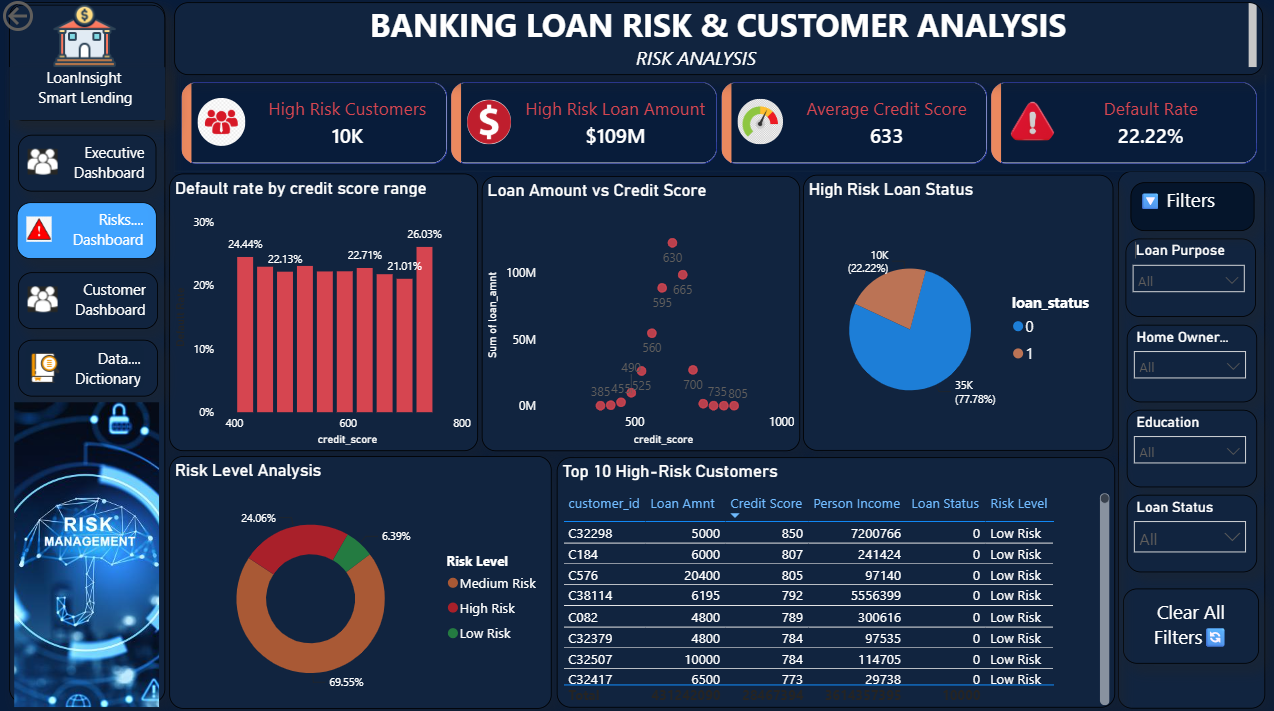

Layout of this report page (visuals, bound fields, positions):
{"tool":"powerbi","page":{"name":"Risk dashboard","canvas":[1280,720],"ordinal":1},"visuals":[{"type":"shape","box":[1120,175,147.5,537.5],"z":0},{"type":"slicer","fields":{"Values":["final_loan_analysis.loan_intent"]},"box":[1127.5,242.5,130,78.8],"z":1000},{"type":"cardVisual","fields":{"Data":["final_loan_analysis.High Risk Customers","final_loan_analysis.High Risk Loan Amount","final_loan_analysis.Average Credit Score","final_loan_analysis.Default Rate"]},"box":[176.1,78.4,1091.8,96.5],"z":2000},{"type":"shape","box":[10.9,6,155.6,700.9],"z":3000},{"type":"columnChart","title":"Default rate by credit score range","fields":{"Y":["final_loan_analysis.Default Rate"],"Category":["final_loan_analysis.credit_score (bins)"]},"box":[171.2,177.5,308.8,277.5],"z":4000},{"type":"scatterChart","title":"Loan Amount vs Credit Score","fields":{"Y":["Sum(final_loan_analysis.loan_amnt)"],"X":["final_loan_analysis.credit_score (bins)"]},"box":[483.8,180,318.8,275],"z":5000},{"type":"donutChart","title":"Risk Level Analysis","fields":{"Y":["CountNonNull(final_loan_analysis.customer_id)"],"Category":["final_loan_analysis.Risk Level"]},"box":[171.2,460,382.5,252.5],"z":6000},{"type":"slicer","fields":{"Values":["final_loan_analysis.person_home_ownership"]},"box":[1128.8,328.8,130,77.5],"z":7000},{"type":"slicer","fields":{"Values":["final_loan_analysis.person_education"]},"box":[1128.8,413.8,130,77.5],"z":8000},{"type":"slicer","fields":{"Values":["final_loan_analysis.loan_status"]},"box":[1128.8,498.8,130,77.5],"z":9000},{"type":"actionButton","box":[1125,592.5,136.2,75],"z":10000},{"type":"shape","box":[10.9,8.4,155.6,115.8],"z":11000},{"type":"image","box":[44.6,8.4,83.2,62.7],"z":12000},{"type":"textbox","box":[10.9,71.2,155.6,53.1],"z":13000},{"type":"actionButton","box":[20.5,138.7,138.7,56.7],"z":14000},{"type":"actionButton","box":[19.3,206.3,139.9,56.7],"z":15000},{"type":"actionButton","box":[20.5,276.3,139.9,56.7],"z":16000},{"type":"actionButton","box":[20.5,343.8,139.9,56.7],"z":17000},{"type":"textbox","box":[176.2,6.2,1088.8,72.5],"z":18000},{"type":"image","box":[16.2,406.2,147,305],"z":19000},{"type":"pieChart","title":"High Risk Loan Status","fields":{"Category":["final_loan_analysis.loan_status"],"Y":["CountNonNull(final_loan_analysis.customer_id)"]},"box":[805,178.8,310,276.2],"z":20000},{"type":"textbox","box":[1132.5,186.2,123.8,48.8],"z":21000},{"type":"tableEx","title":"Top 10 High-Risk Customers","fields":{"Values":["final_loan_analysis.customer_id","Sum(final_loan_analysis.loan_amnt)","Sum(final_loan_analysis.credit_score)","Sum(final_loan_analysis.person_income)","Sum(final_loan_analysis.loan_status)","final_loan_analysis.Risk Level"]},"box":[558.8,461.2,558.8,250],"z":22000},{"type":"actionButton","box":[0,0,100,40],"z":23000}]}

Visuals, with their boxes on the page's 1280x720 design canvas (x1, y1, x2, y2). These are canvas units, not pixel positions in the 1274x711 screenshot, which may show the page scaled, cropped or inside an application window:
shape: (1120, 175, 1268, 712)
slicer - final_loan_analysis.loan_intent: (1128, 242, 1258, 321)
cardVisual - final_loan_analysis.High Risk Customers x final_loan_analysis.High Risk Loan Amount: (176, 78, 1268, 175)
shape: (11, 6, 166, 707)
"Default rate by credit score range" columnChart: (171, 178, 480, 455)
"Loan Amount vs Credit Score" scatterChart: (484, 180, 803, 455)
"Risk Level Analysis" donutChart: (171, 460, 554, 712)
slicer - final_loan_analysis.person_home_ownership: (1129, 329, 1259, 406)
slicer - final_loan_analysis.person_education: (1129, 414, 1259, 491)
slicer - final_loan_analysis.loan_status: (1129, 499, 1259, 576)
actionButton: (1125, 592, 1261, 668)
shape: (11, 8, 166, 124)
image: (45, 8, 128, 71)
textbox: (11, 71, 166, 124)
actionButton: (20, 139, 159, 195)
actionButton: (19, 206, 159, 263)
actionButton: (20, 276, 160, 333)
actionButton: (20, 344, 160, 400)
textbox: (176, 6, 1265, 79)
image: (16, 406, 163, 711)
"High Risk Loan Status" pieChart: (805, 179, 1115, 455)
textbox: (1132, 186, 1256, 235)
"Top 10 High-Risk Customers" tableEx: (559, 461, 1118, 711)
actionButton: (0, 0, 100, 40)
